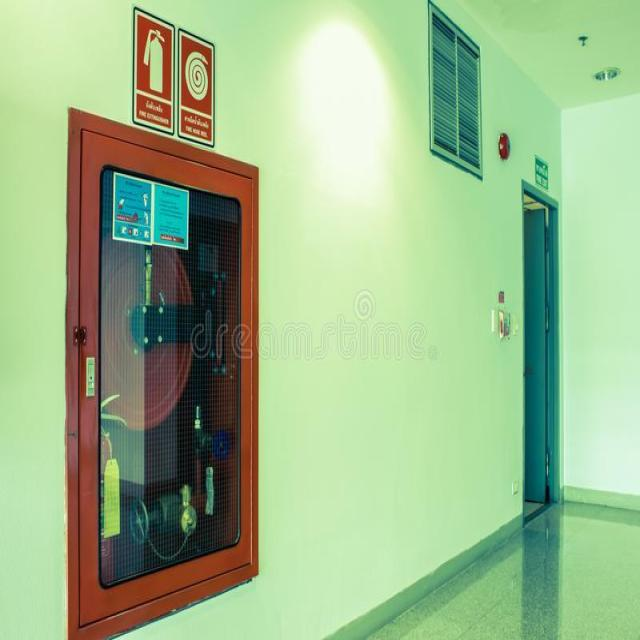fire_extinguisher: (79, 382, 129, 604)
